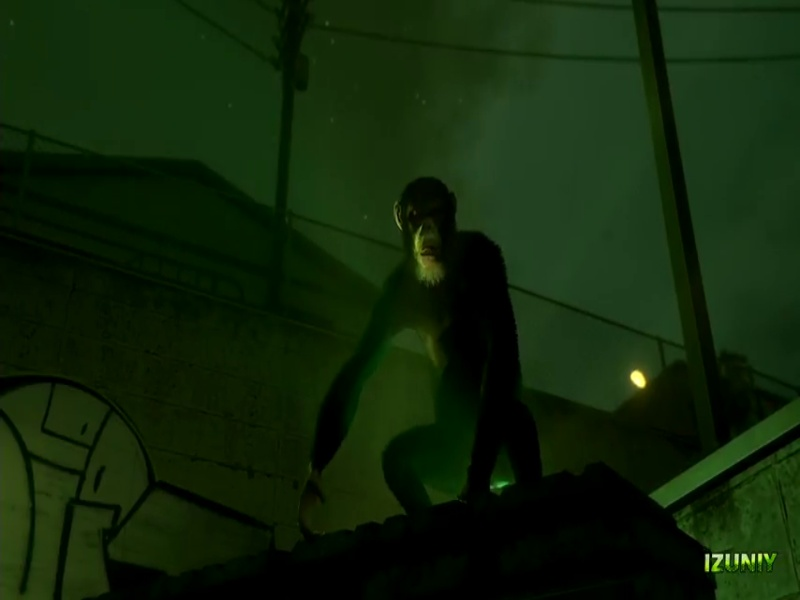human: (327, 174, 537, 517)
